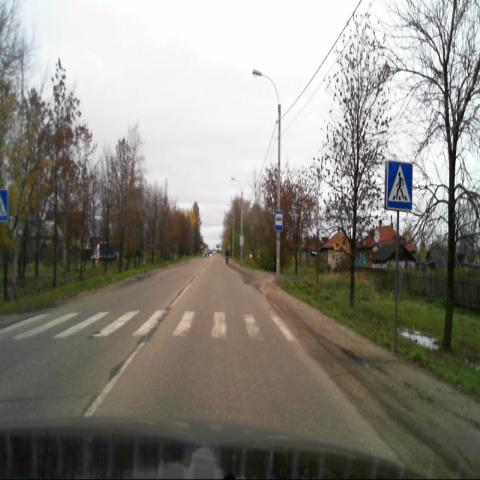5_16: (274, 212, 282, 232)
5_19_1: (386, 162, 412, 210)
